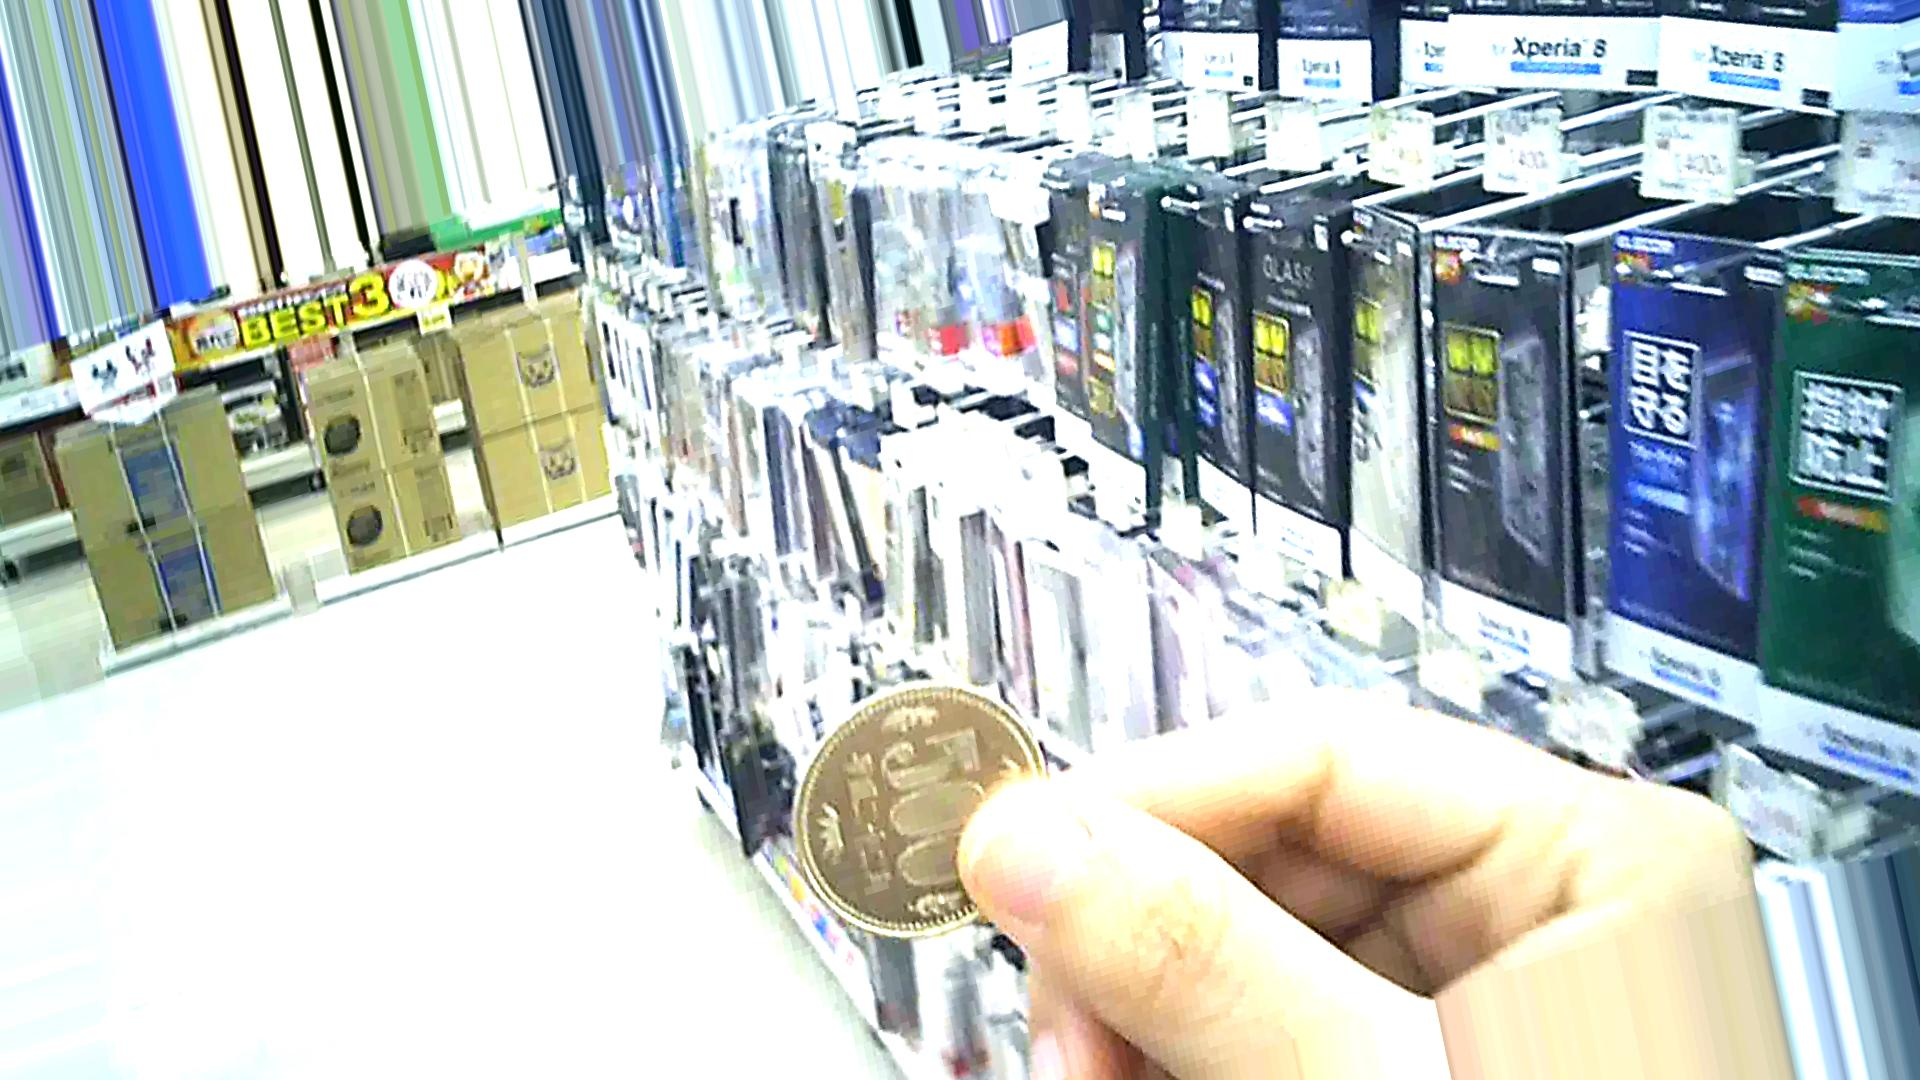500 Yen: (789, 655, 1033, 938)
